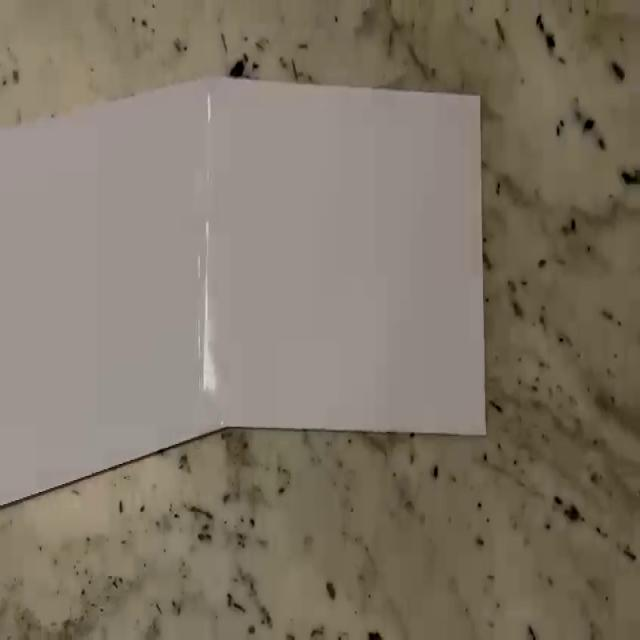road: (0, 76, 487, 507)
